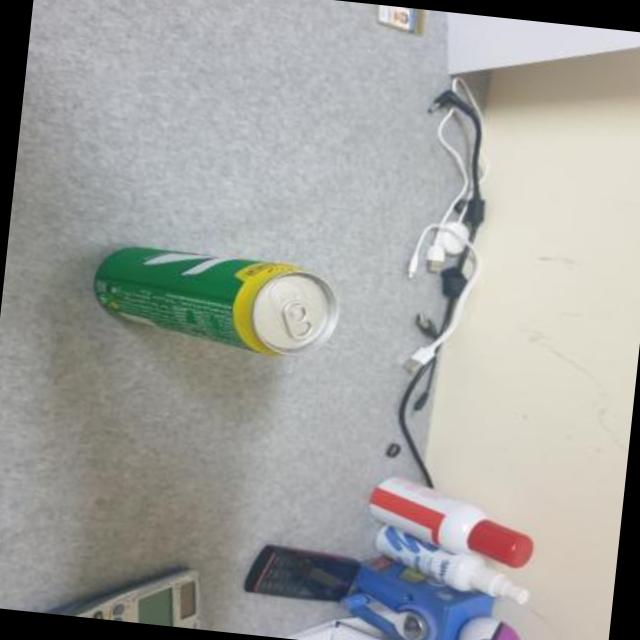metal: (95, 248, 338, 357)
